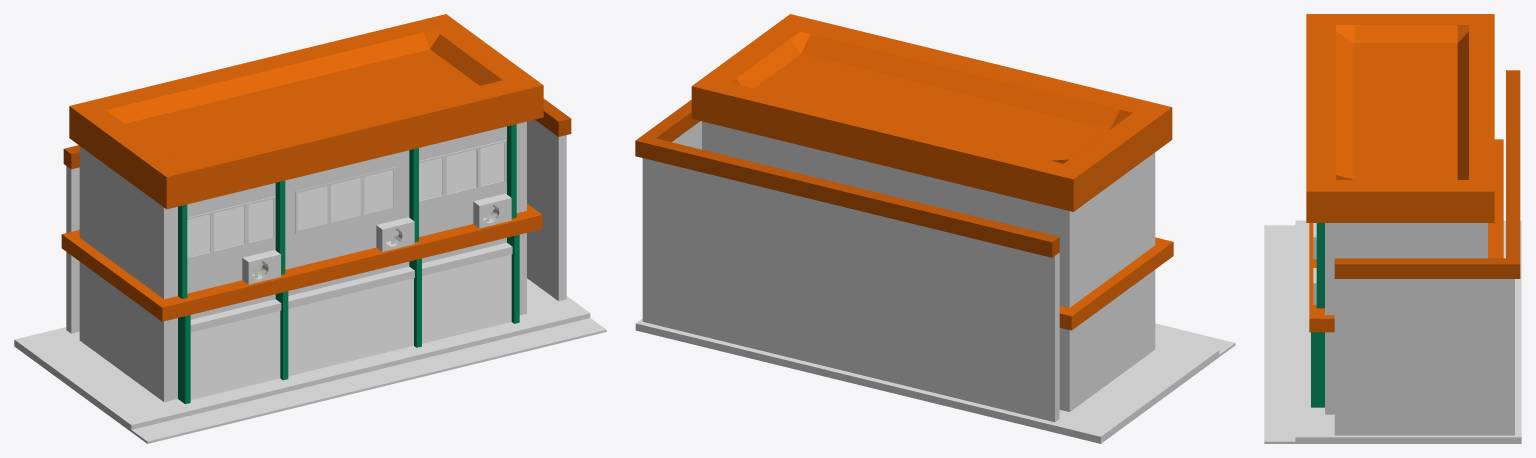
Rendered from RILLJADI.gltf.
3 renders of one model, left to right at view 1: azimuth 30°, elevation 25°; view 2: azimuth 150°, elevation 25°; view 3: azimuth 270°, elevation 25°, orthographic. The views are drawn at different scales.
Visible parts, largest first — view 1: Cube.001, Plane.001, Plane, Plane.002, Cube.002, Cube.004, Cube.003, Green Pillar, Green Pillar.001, Plane.004, Plane.005, Plane.003 (+5 smaller); view 2: Cube.004, Cube.001, Plane.001, Plane, Cube.008, Cube.002; view 3: Cube.001, Cube.004, Plane, Plane.001, Cube.008, Cube.002, Green Pillar, Green Pillar.001.
Boxes of the visible parts, x1,y1,x2,y2 form: Cube.001: (69,14,543,209); Plane.001: (79,121,526,402); Plane: (14,278,606,443); Plane.002: (190,254,511,399); Cube.002: (61,203,542,321); Cube.004: (66,119,566,333); Cube.003: (190,243,512,332); Green Pillar: (178,234,519,404); Green Pillar.001: (178,124,516,298); Plane.004: (297,170,393,230); Plane.005: (187,199,273,257); Plane.003: (187,140,506,259); Cube.004: (642,121,1059,422); Cube.001: (691,14,1172,211); Plane.001: (702,121,1155,411); Plane: (635,318,1235,443); Cube.008: (635,99,1059,257); Cube.002: (1059,237,1173,330); Cube.001: (1306,14,1494,222); Cube.004: (1334,279,1514,435); Plane: (1264,220,1521,443); Plane.001: (1325,223,1487,414); Cube.008: (1334,70,1520,278); Cube.002: (1309,139,1503,332); Green Pillar: (1311,332,1324,407); Green Pillar.001: (1316,223,1324,308).
Bounding box in the file's own units: 19.93 × 9.97 × 9.98.
